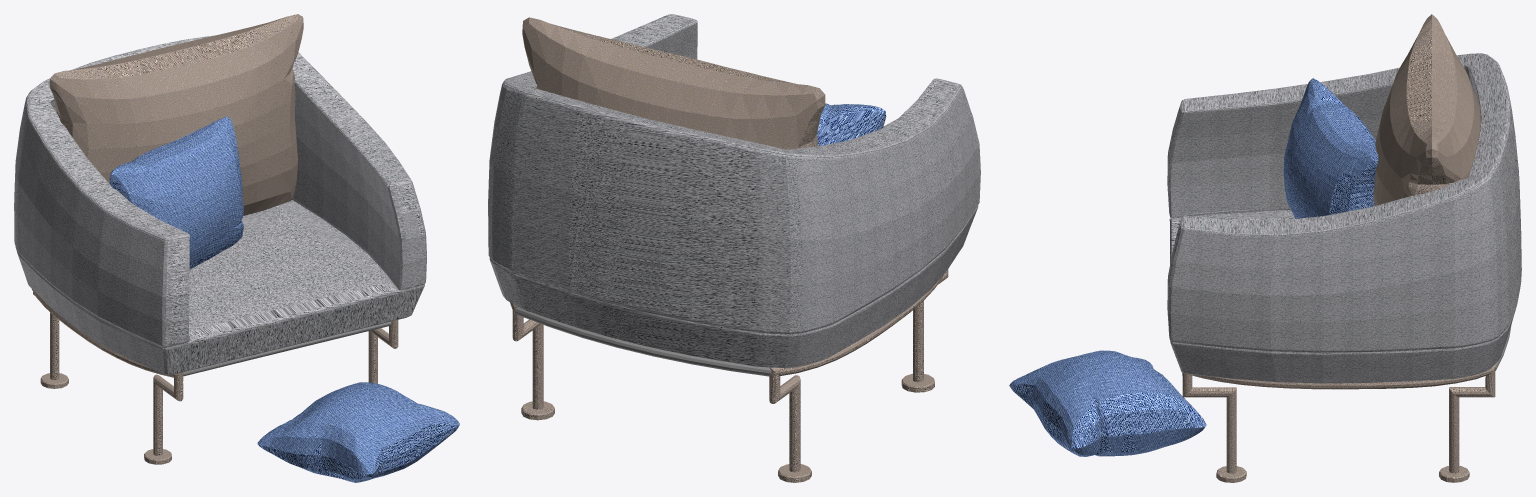
File: intro model.glb
The picture shows the model from 3 angles, left to right: view 1: azimuth 30°, elevation 25°; view 2: azimuth 150°, elevation 25°; view 3: azimuth 270°, elevation 25°; orthographic projection. The views are drawn at different scales.
Bounding box in the file's own units: 0.0374 × 0.0374 × 0.0505.
Materials: 4 (3 with a texture image).
